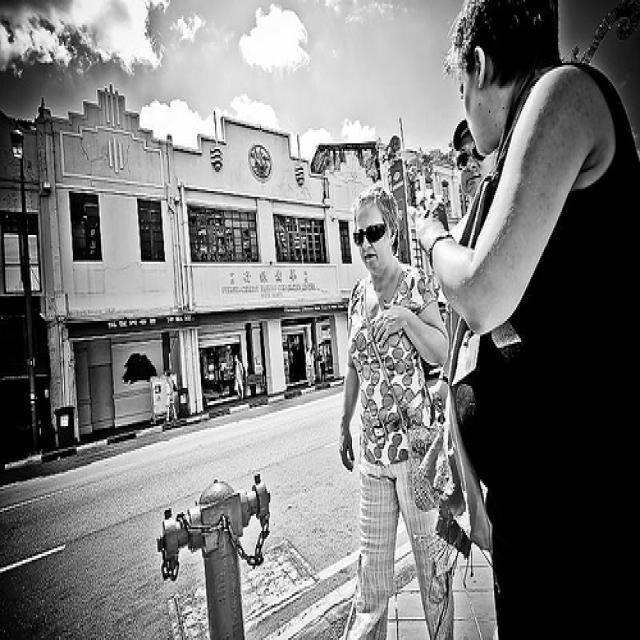fire_hydrant: (154, 468, 268, 640)
